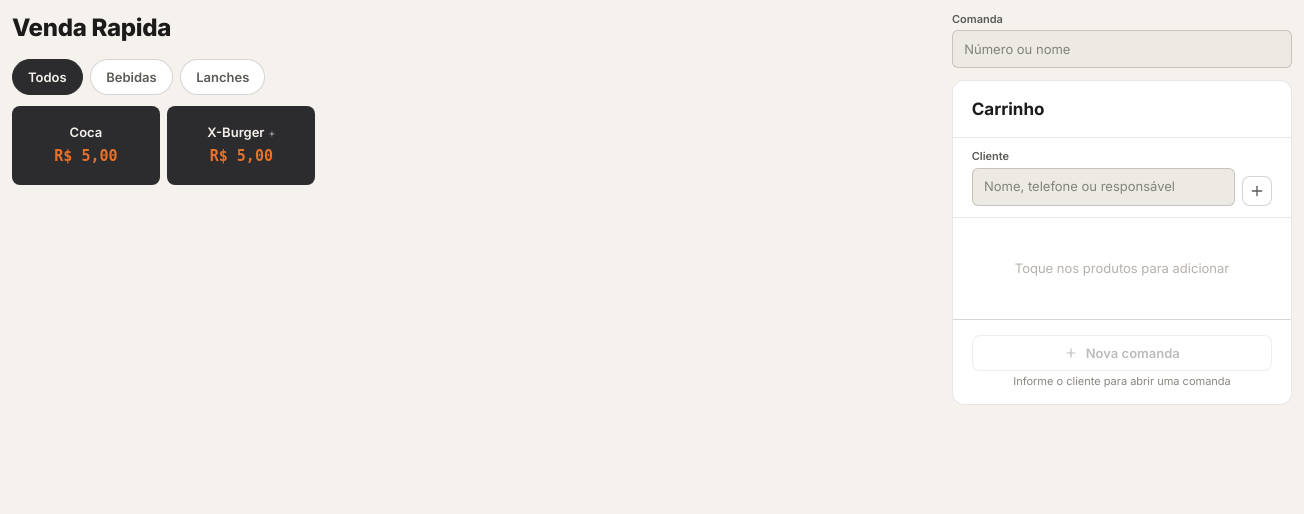
Scenario: PdvPage › adds directly when a customizable product has no loadable groups
Expected: the text "X-Burger" is shown, [207, 124, 264, 140]
Step 1. Click the text "X-Burger" → (241, 132), box [207, 123, 276, 141]
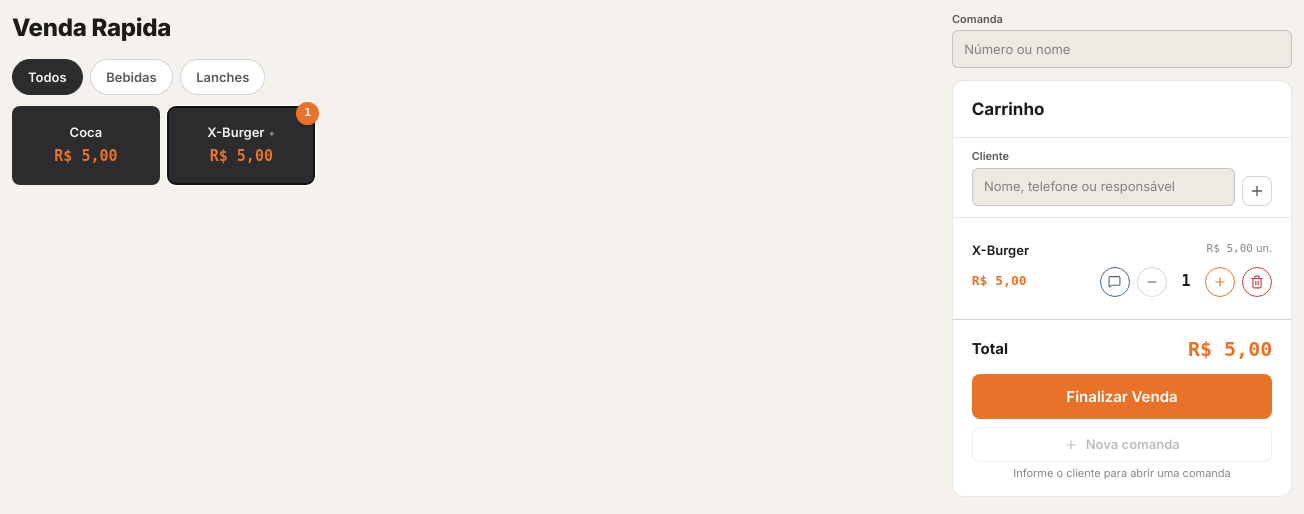
Expected: the button "Finalizar Venda" is shown, [972, 374, 1272, 419]
